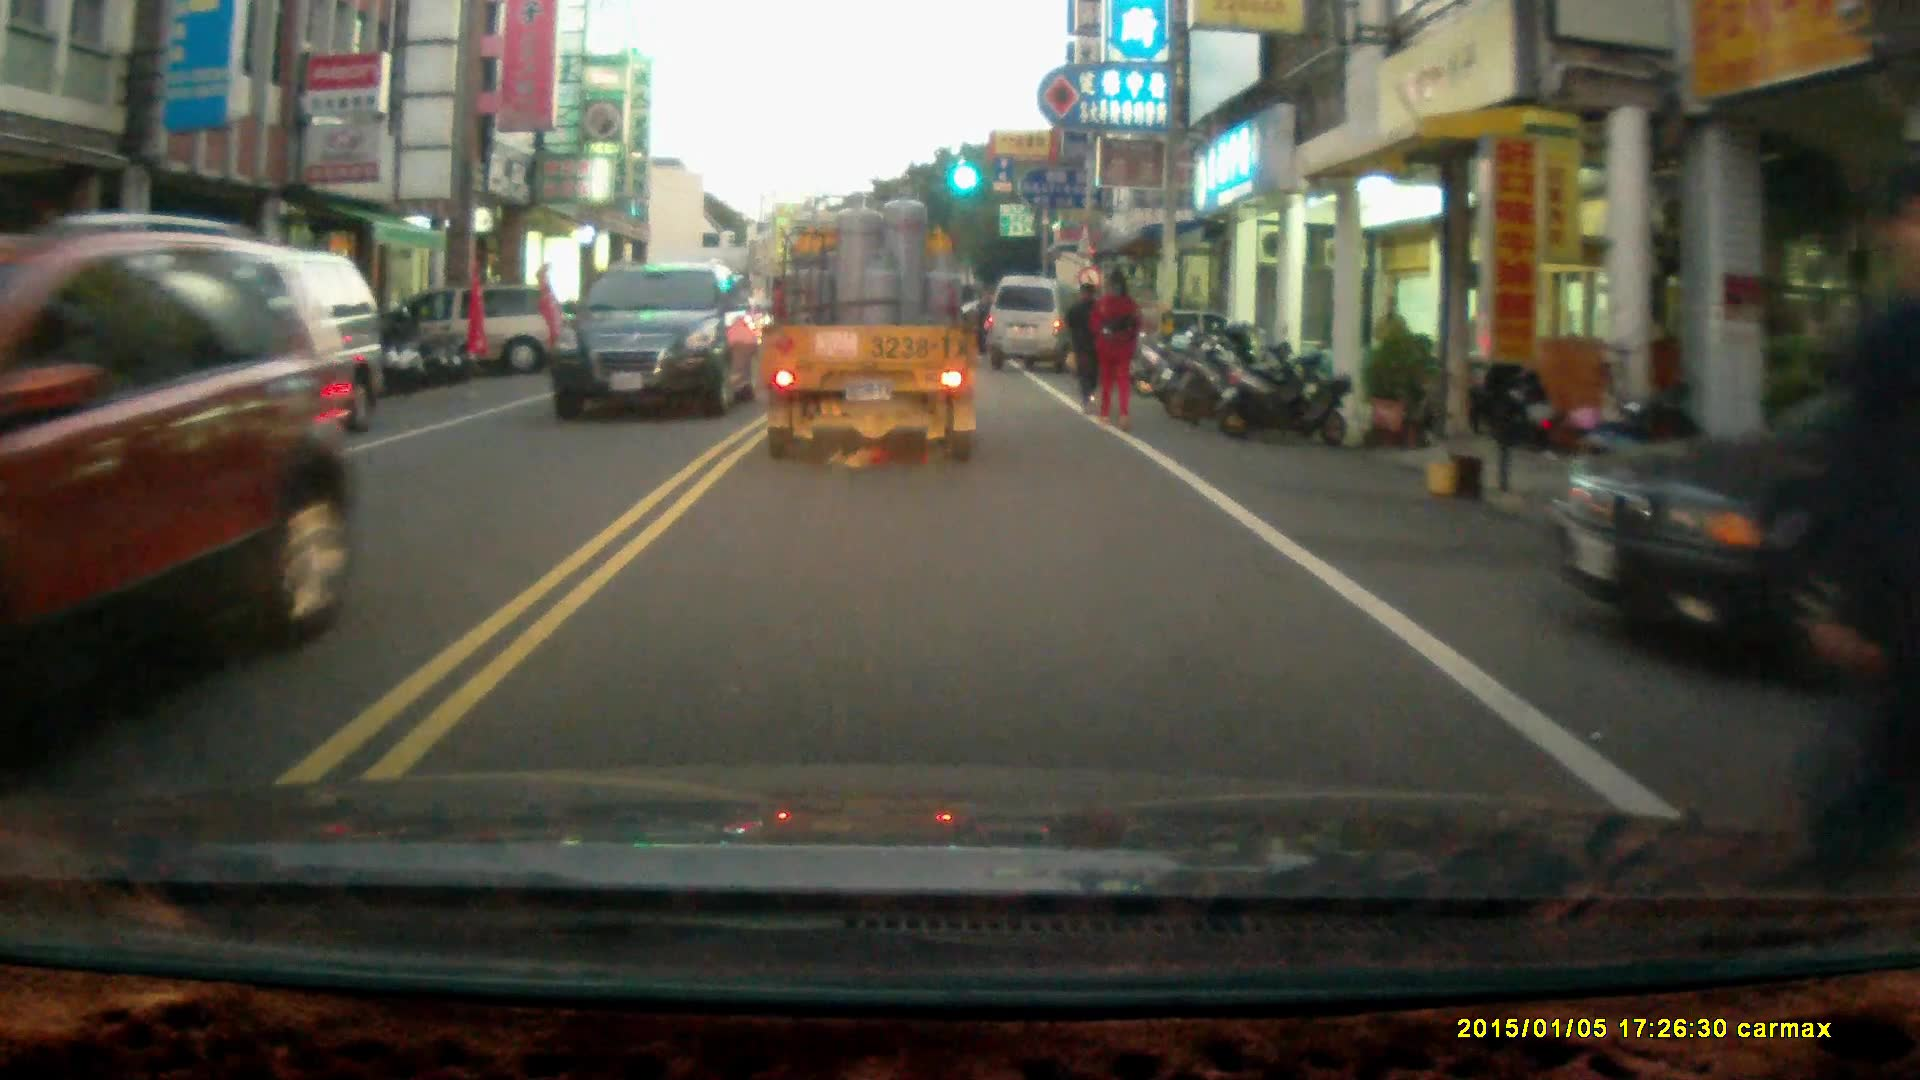pedestrian: (1792, 157, 1920, 889), (1089, 265, 1141, 429), (1062, 274, 1106, 411), (1369, 290, 1408, 393)
vehicle: (1, 219, 380, 728), (1539, 378, 1920, 664), (755, 178, 986, 467), (97, 256, 382, 468), (550, 259, 761, 423), (352, 286, 589, 375), (987, 273, 1086, 375)
